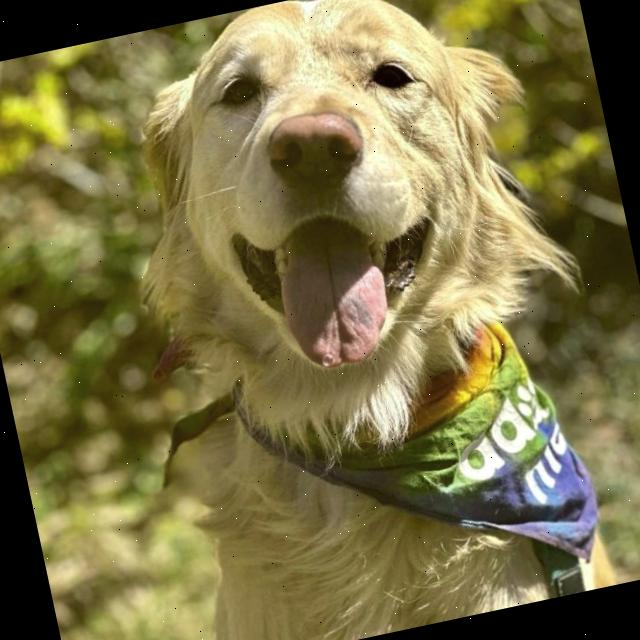golden_retriever_dog: (91, 0, 606, 486)
